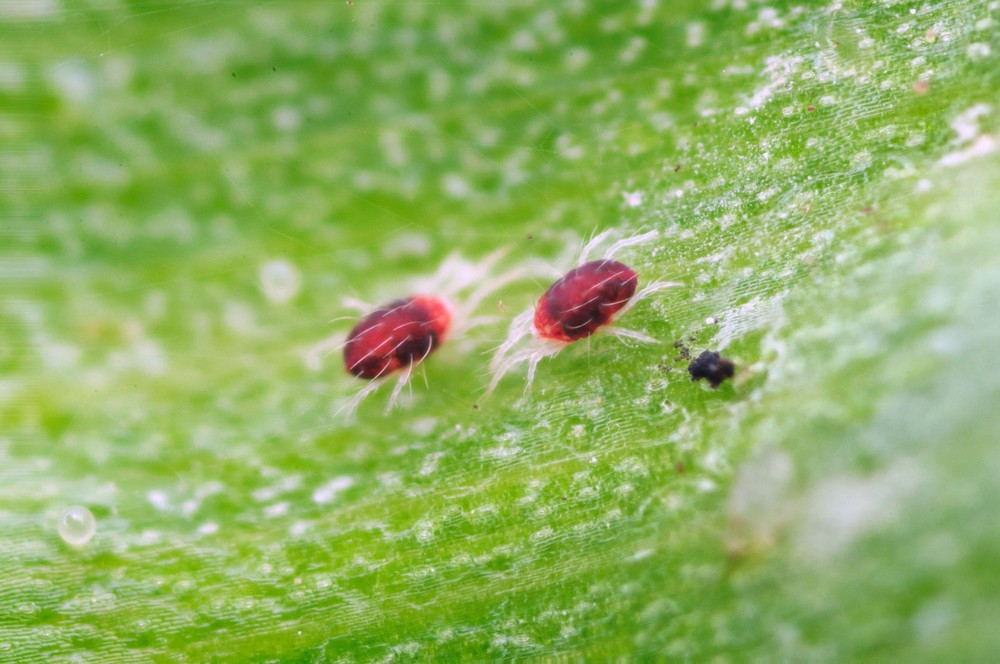Aracnido Rojo: (477, 211, 689, 387), (317, 234, 505, 406)
